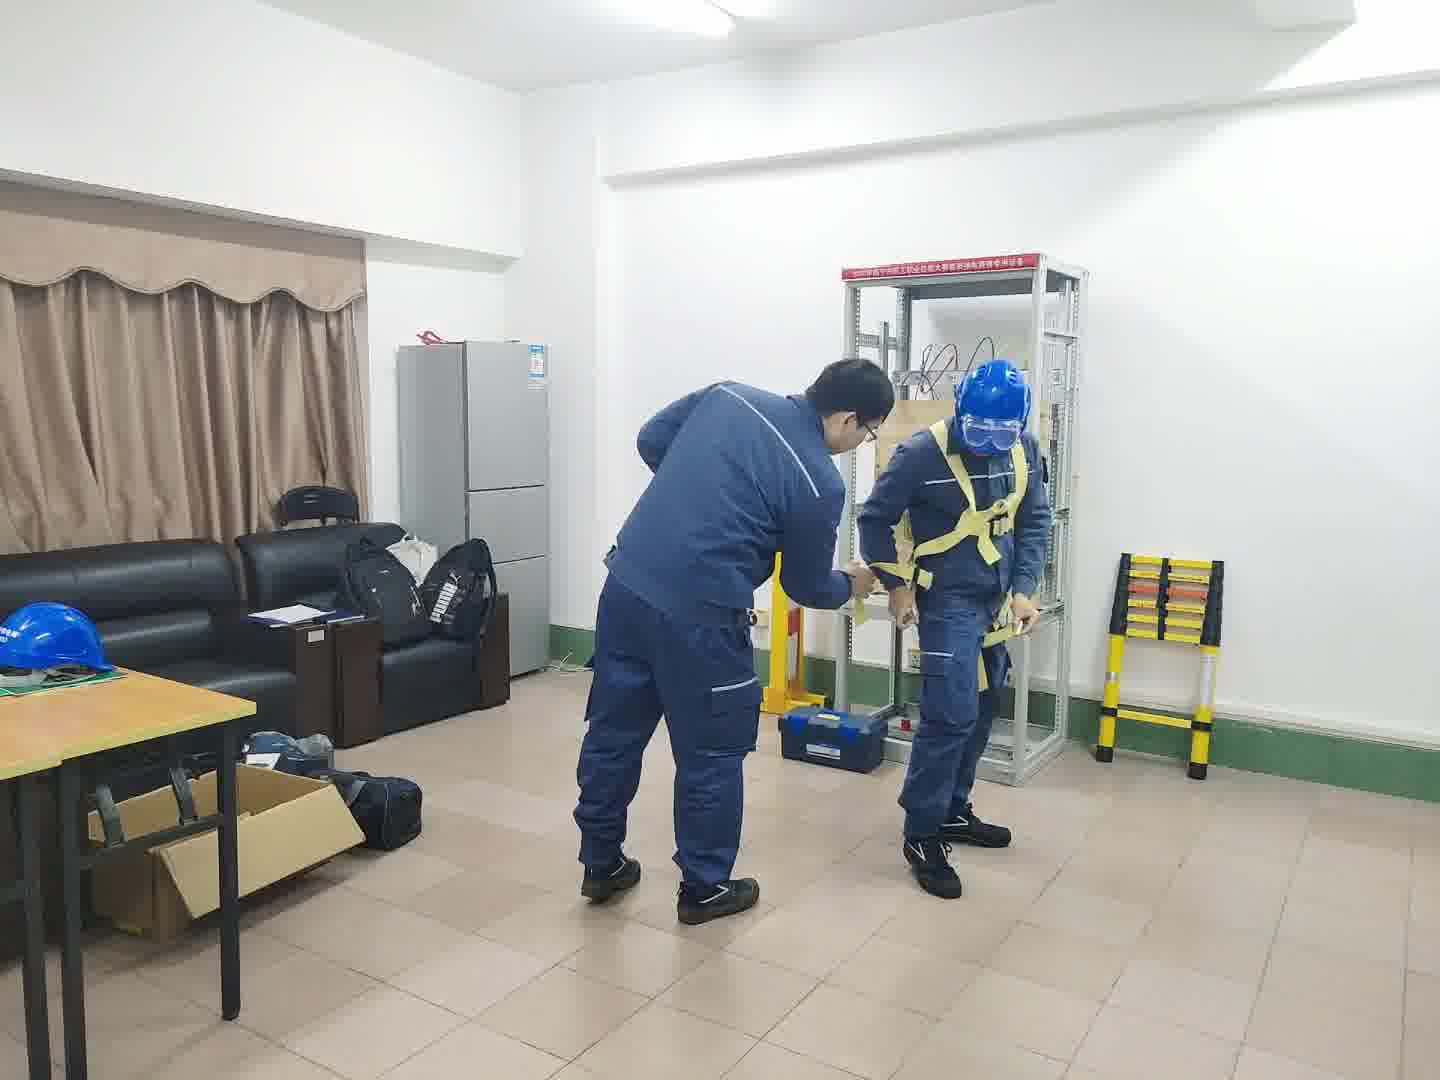downsuit: (568, 580, 768, 884), (897, 602, 1010, 821)
halt: (957, 358, 1033, 455)
hand: (886, 581, 921, 626), (1010, 592, 1039, 638), (848, 559, 876, 603)
noear: (836, 406, 866, 443)
person: (556, 351, 897, 923), (864, 356, 1058, 903)
safebelt: (866, 419, 1035, 695)
unhalt: (806, 357, 895, 459)
upsuit: (594, 380, 847, 618), (859, 421, 1054, 601)
